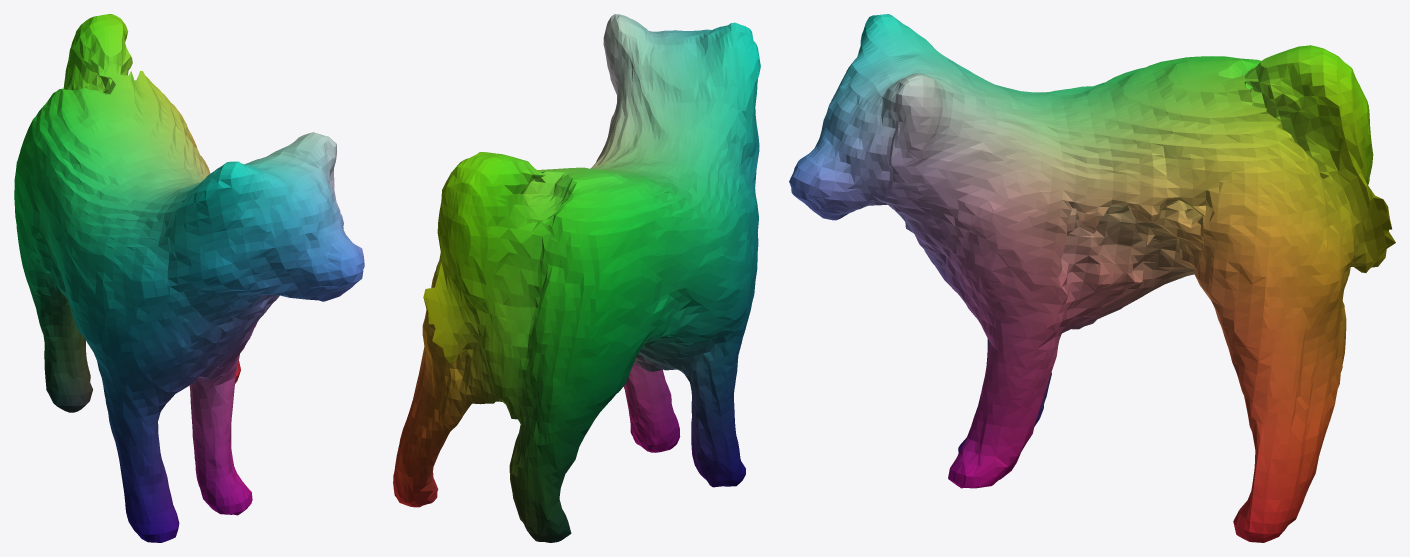
File: shiba-haru-1001-mesh-00097.obj
3 views of the same model, side by side, from view 1: azimuth 30°, elevation 25°; view 2: azimuth 150°, elevation 25°; view 3: azimuth 270°, elevation 25° (orthographic). The views are drawn at different scales.
Bounding box in the file's own units: 0.0599 × 0.0944 × 0.1112.
